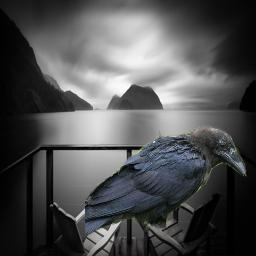Crow: (85, 125, 247, 237)
